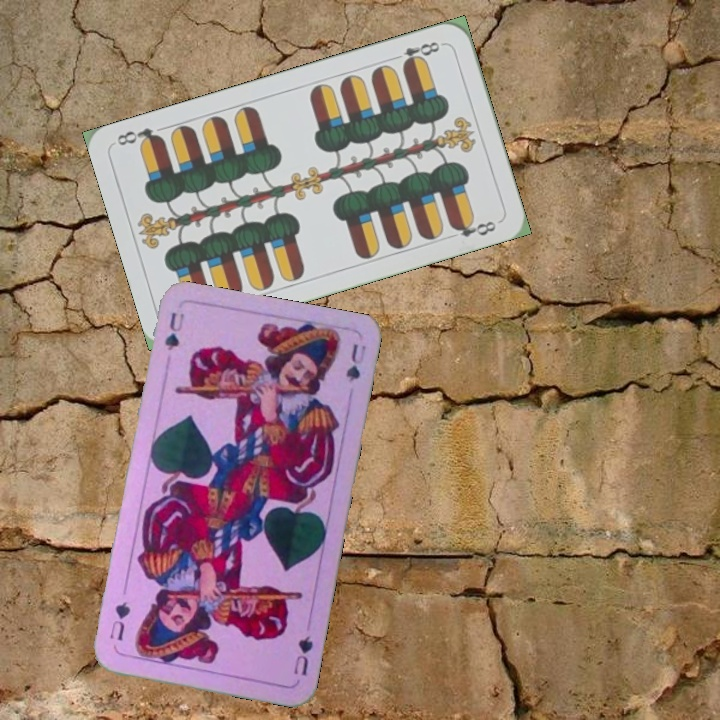E8: (388, 37, 447, 69)
GU: (160, 308, 187, 353), (290, 632, 316, 678)
